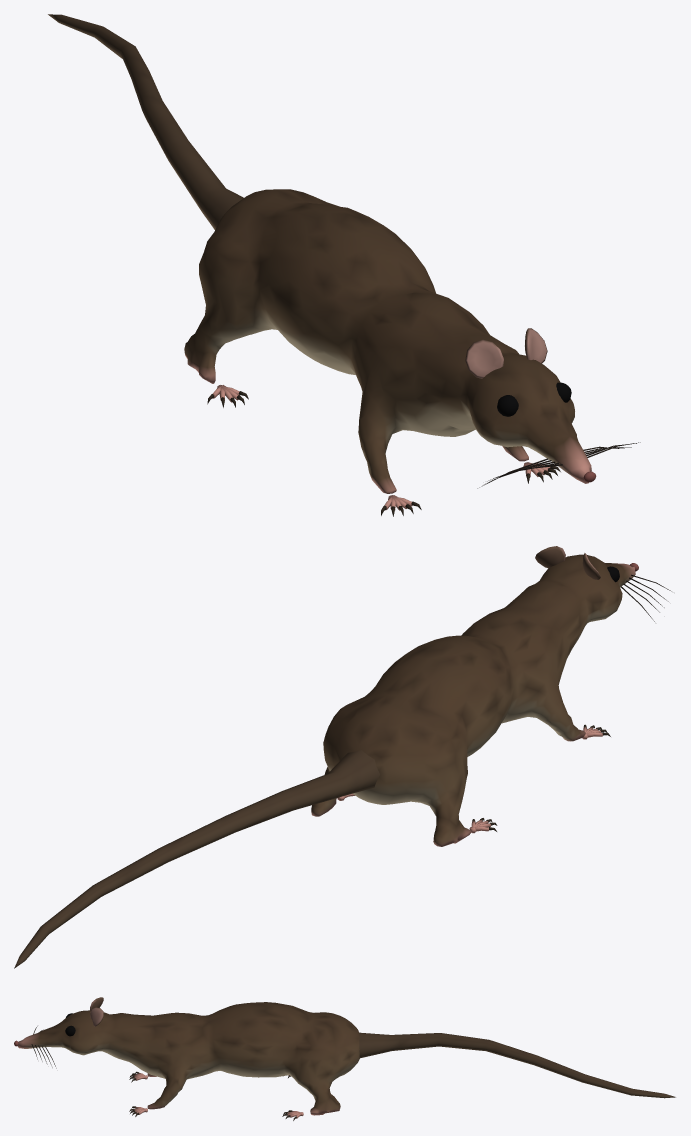
The model's file is Juramaia.fbx.
3 renders of one model, top to bottom at view 1: azimuth 30°, elevation 25°; view 2: azimuth 150°, elevation 25°; view 3: azimuth 270°, elevation 25°, orthographic. The views are drawn at different scales.
Visible parts, largest first — view 1: Juramaia; view 2: Juramaia; view 3: Juramaia.
Part boxes in pixels (x1,y1,x2,y2): Juramaia: [48, 14, 640, 516]; Juramaia: [14, 546, 671, 968]; Juramaia: [14, 997, 675, 1120].
Size of the model in its own units: 0.199 by 0.1496 by 0.9663.
